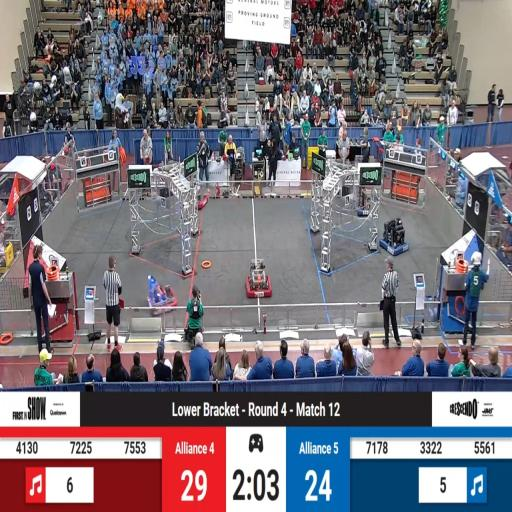robot: (381, 218, 409, 256), (150, 275, 178, 313), (245, 261, 272, 298), (357, 190, 377, 216)
